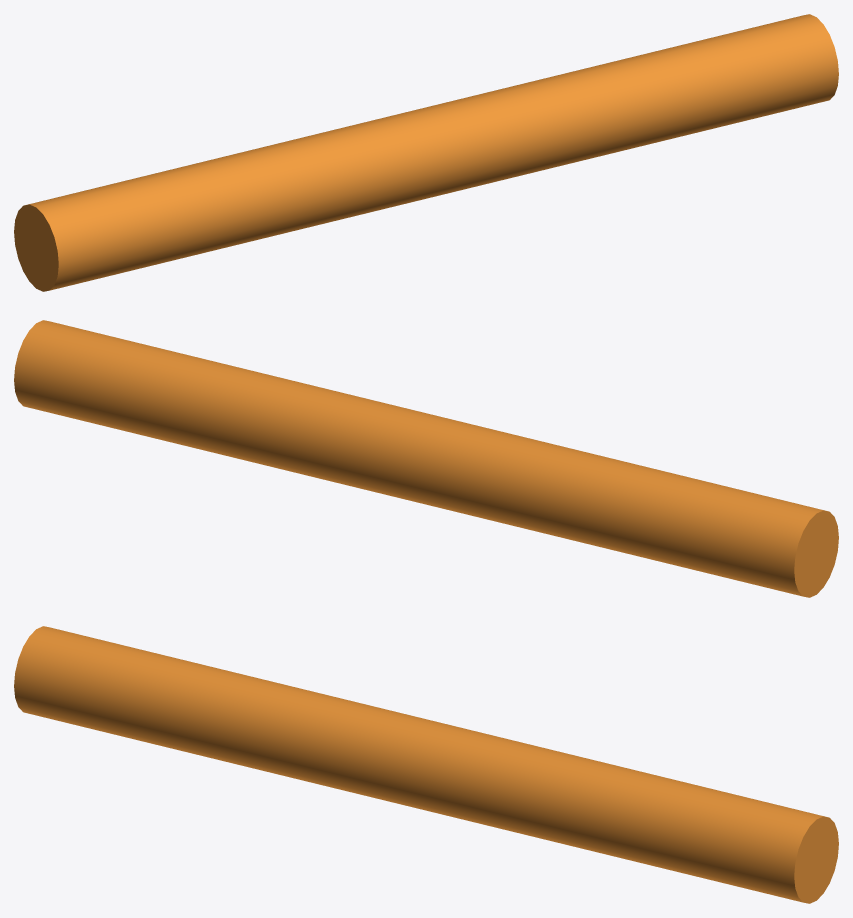
File: Pole.fbx
3 renders of one model, top to bottom at view 1: azimuth 30°, elevation 25°; view 2: azimuth 150°, elevation 25°; view 3: azimuth 330°, elevation 25°, orthographic.
Visible parts, largest first — view 1: Pole; view 2: Pole; view 3: Pole.
Boxes of the visible parts, x1,y1,x2,y2 form: Pole: (14, 14, 838, 291); Pole: (14, 320, 838, 597); Pole: (14, 626, 838, 903).
Bounding box in the file's own units: 3.87 × 0.385 × 0.385.
